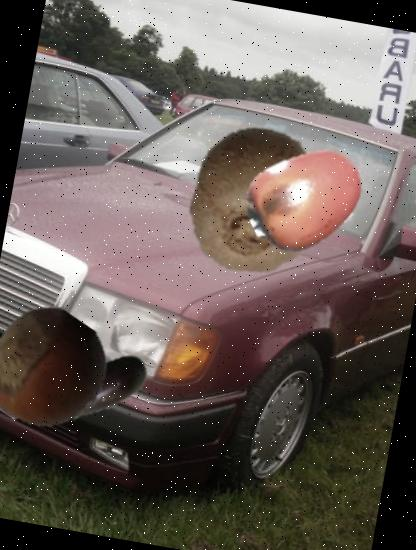Eggplant: (35, 326, 162, 453)
Kaki: (236, 130, 376, 270)
Kiwi: (170, 114, 341, 286)
Nut: (0, 301, 116, 440)
